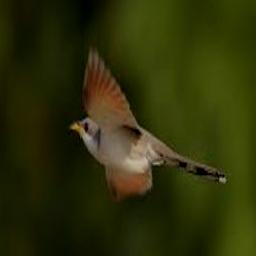Cuckoo: (69, 48, 226, 194)
